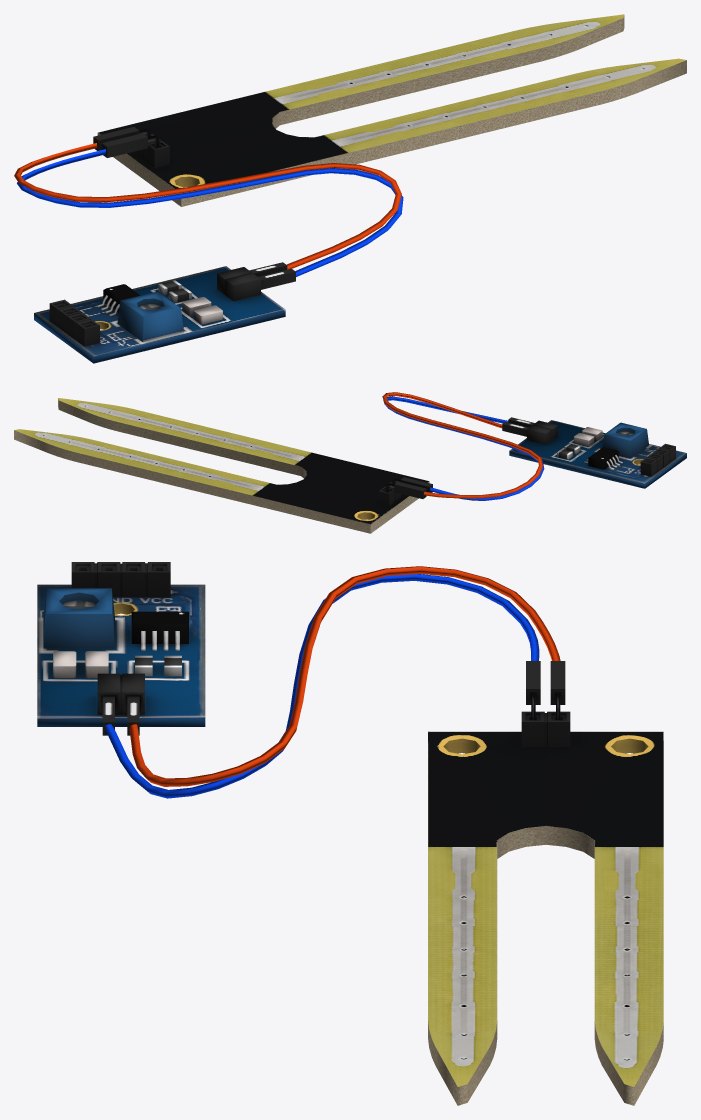
Rendered from soil_sensor.glb.
3 renders of one model, top to bottom at view 1: azimuth 30°, elevation 25°; view 2: azimuth 150°, elevation 25°; view 3: azimuth 270°, elevation 25°, orthographic. The views are drawn at different scales.
Visible parts, largest first — view 1: Soil Sensor P1, Soil Sensor P2, Jumper_Wires; view 2: Soil Sensor P1, Soil Sensor P2, Jumper_Wires; view 3: Soil Sensor P1, Soil Sensor P2, Jumper_Wires.
Part boxes in pixels (x1,y1,x2,y2): Soil Sensor P1: [97, 14, 686, 206]; Soil Sensor P2: [34, 266, 285, 363]; Jumper_Wires: [14, 127, 403, 289]; Soil Sensor P1: [14, 398, 429, 533]; Soil Sensor P2: [509, 420, 686, 488]; Jumper_Wires: [382, 392, 544, 500]; Soil Sensor P1: [428, 711, 663, 1105]; Soil Sensor P2: [37, 562, 205, 726]; Jumper_Wires: [102, 566, 565, 798].
Bounding box in the file's own units: 0.8748 × 0.0675 × 0.4532.
3 materials, 1 textured.
